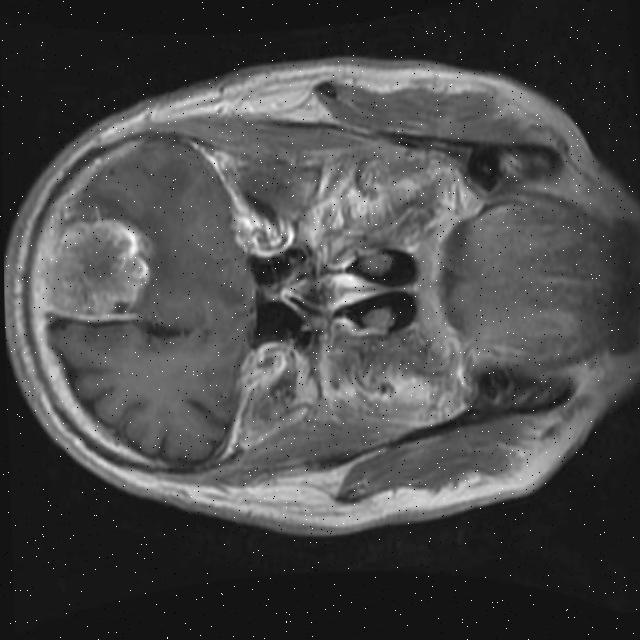Meningioma: (28, 210, 156, 327)
